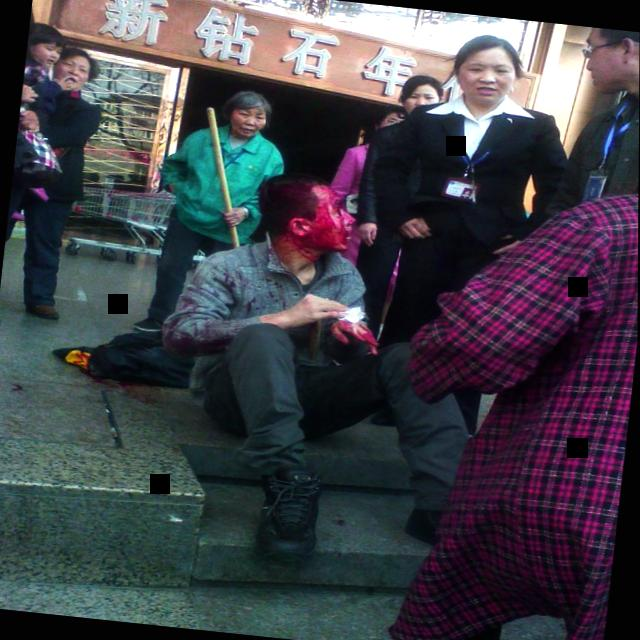Fall-Detected: (116, 155, 517, 580)
